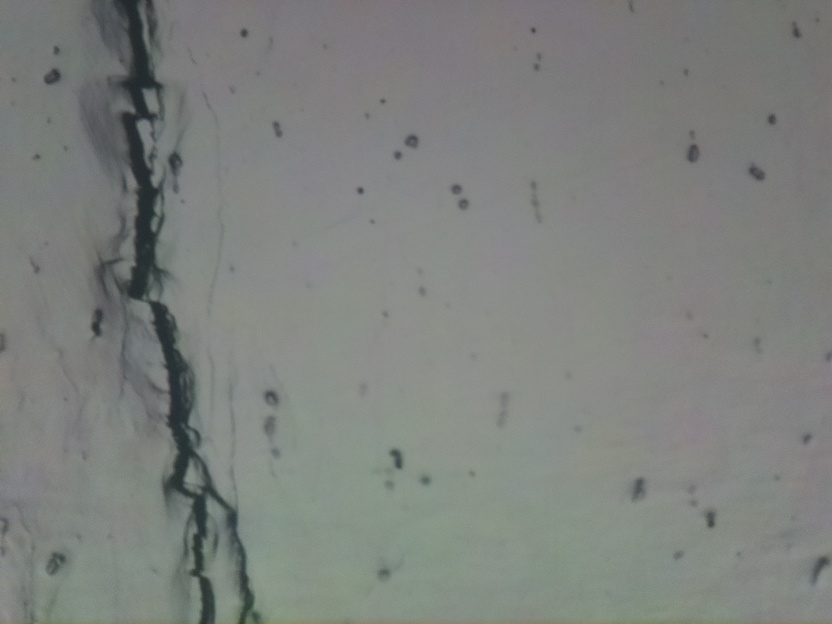crack: (111, 0, 257, 624)
